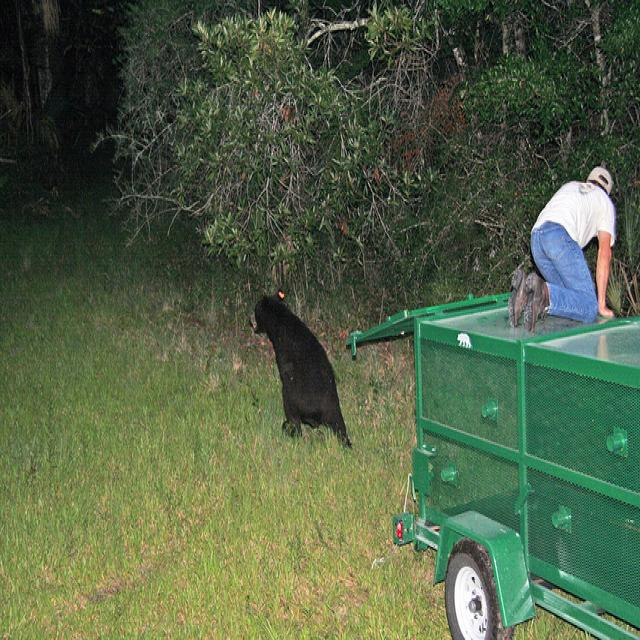Vehicle: (349, 288, 640, 632)
